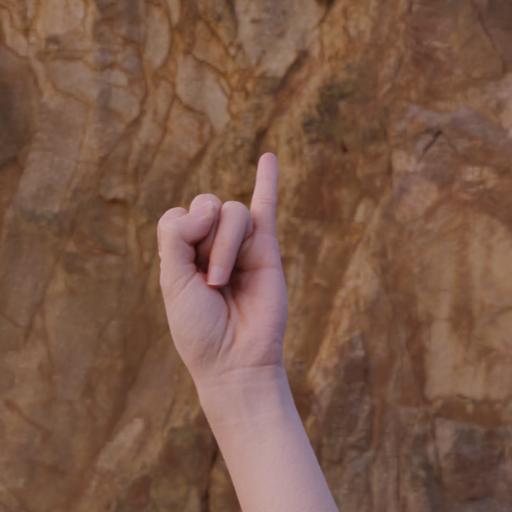I: (146, 145, 296, 390)
